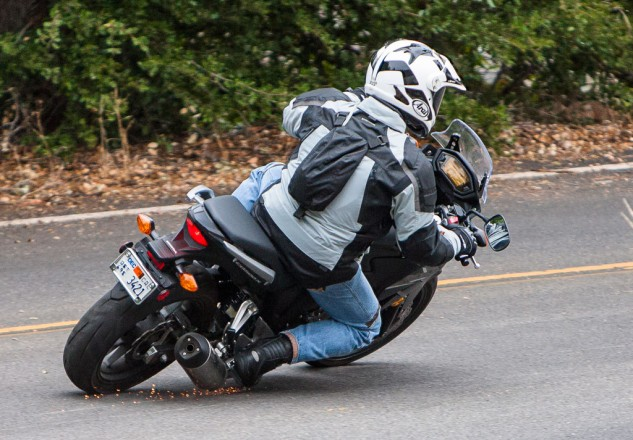helmet: (363, 38, 467, 136)
motorcycle: (60, 117, 512, 394)
